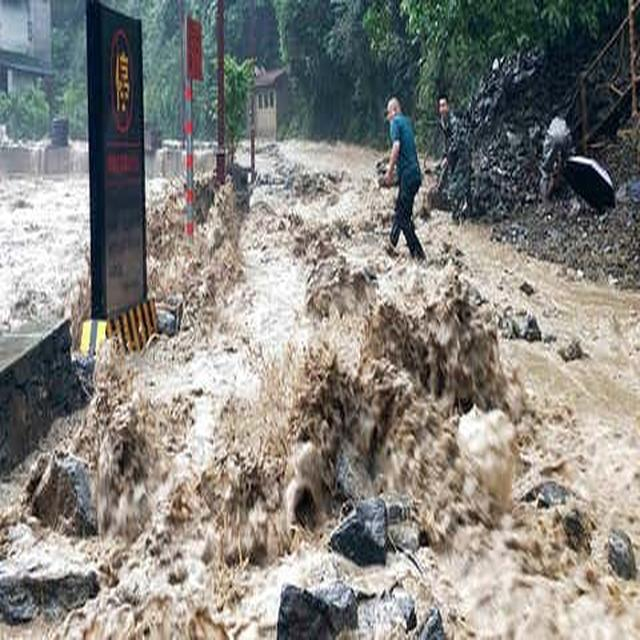Person-RiskLevel2: (356, 85, 435, 266), (429, 95, 493, 231)
